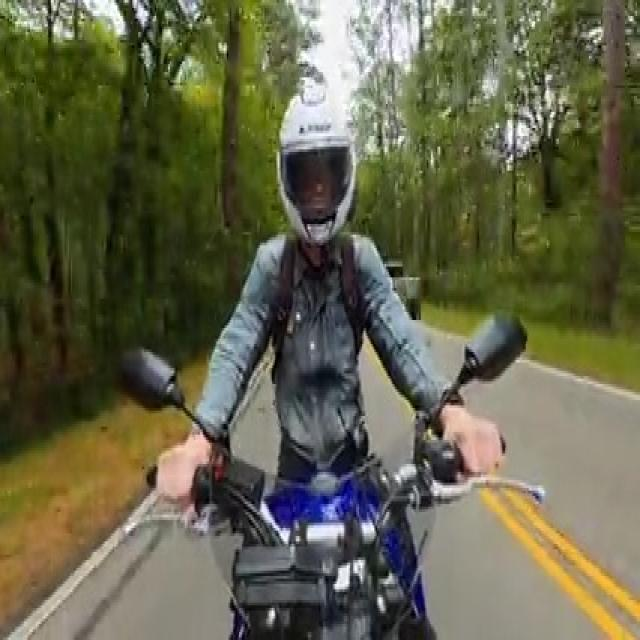Helmet_Wearer: (272, 74, 368, 238)
Person: (168, 86, 493, 470)
